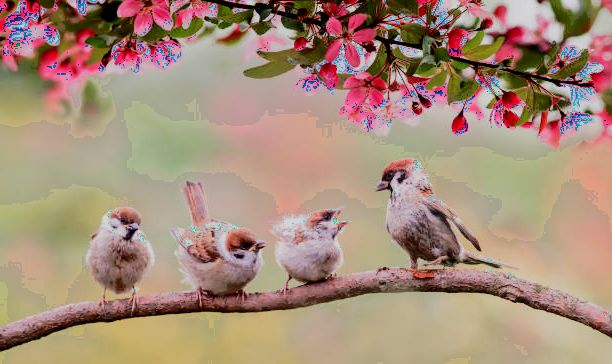Bird: (371, 156, 520, 279), (167, 179, 267, 306), (84, 203, 155, 315), (274, 204, 349, 301)
